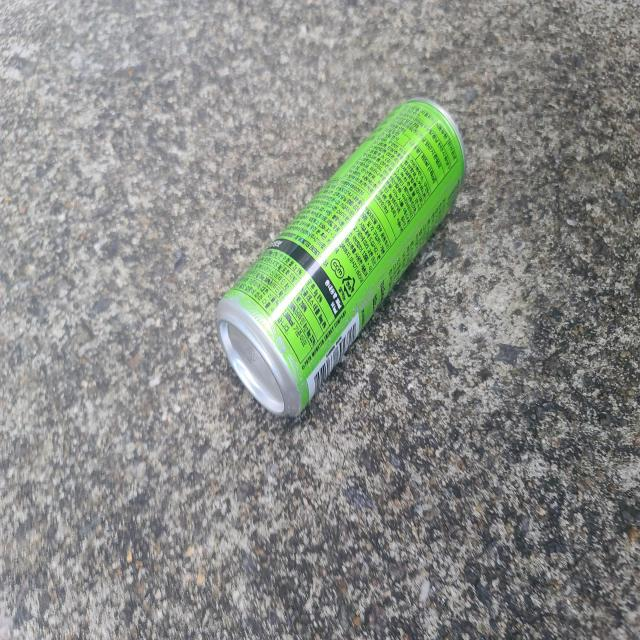can: (216, 97, 465, 417)
